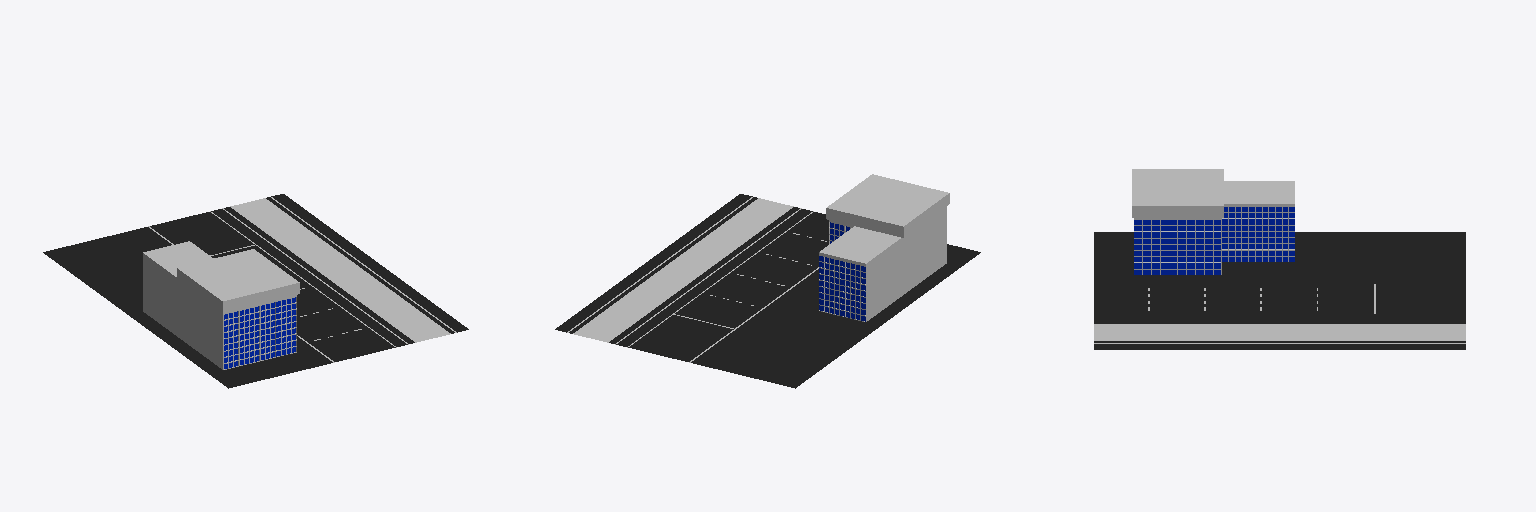
The model's file is Airport_Lowpoly.obj.
3 views of the same model, side by side, from view 1: azimuth 30°, elevation 25°; view 2: azimuth 150°, elevation 25°; view 3: azimuth 270°, elevation 25° (orthographic).
Parts seen in each view (by area): view 1: Plane; view 2: Plane; view 3: Plane.
Boxes of the visible parts, x1=… form: Plane: x1=43, y1=194, x2=468, y2=388; Plane: x1=555, y1=174, x2=980, y2=388; Plane: x1=1094, y1=169, x2=1465, y2=349.
Size of the model in its own units: 16.71 by 4.64 by 22.33.